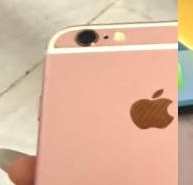scratch: (52, 43, 59, 50), (43, 75, 49, 82)
